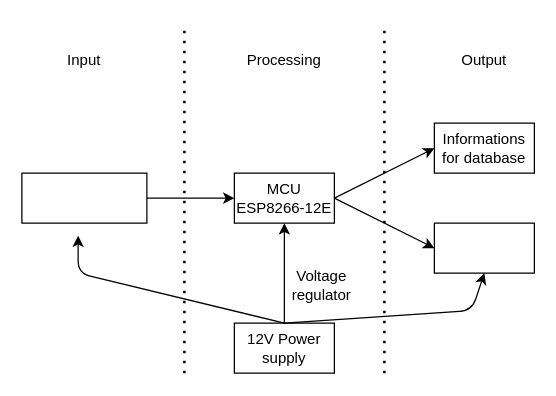
Image size: 556x396. Some labels were removed from this diagram. Here are the shapes that lost their labels. From the top down, the centre of each, then its label:
At pixel 84 197: "Distance sensor VL53L0X".
At pixel 483 247: "Relay".
